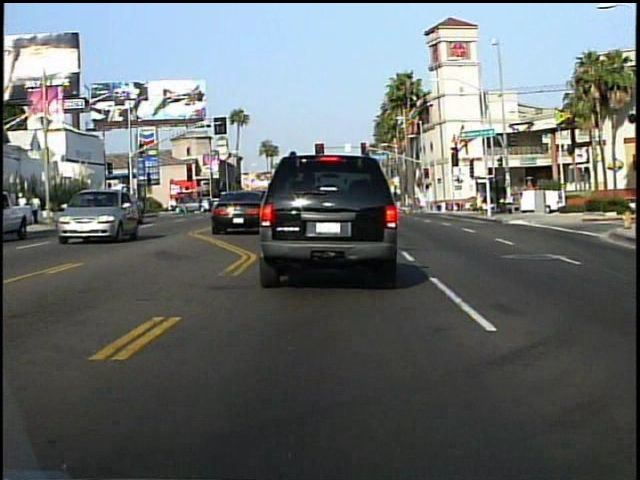person: (174, 187, 187, 219)
